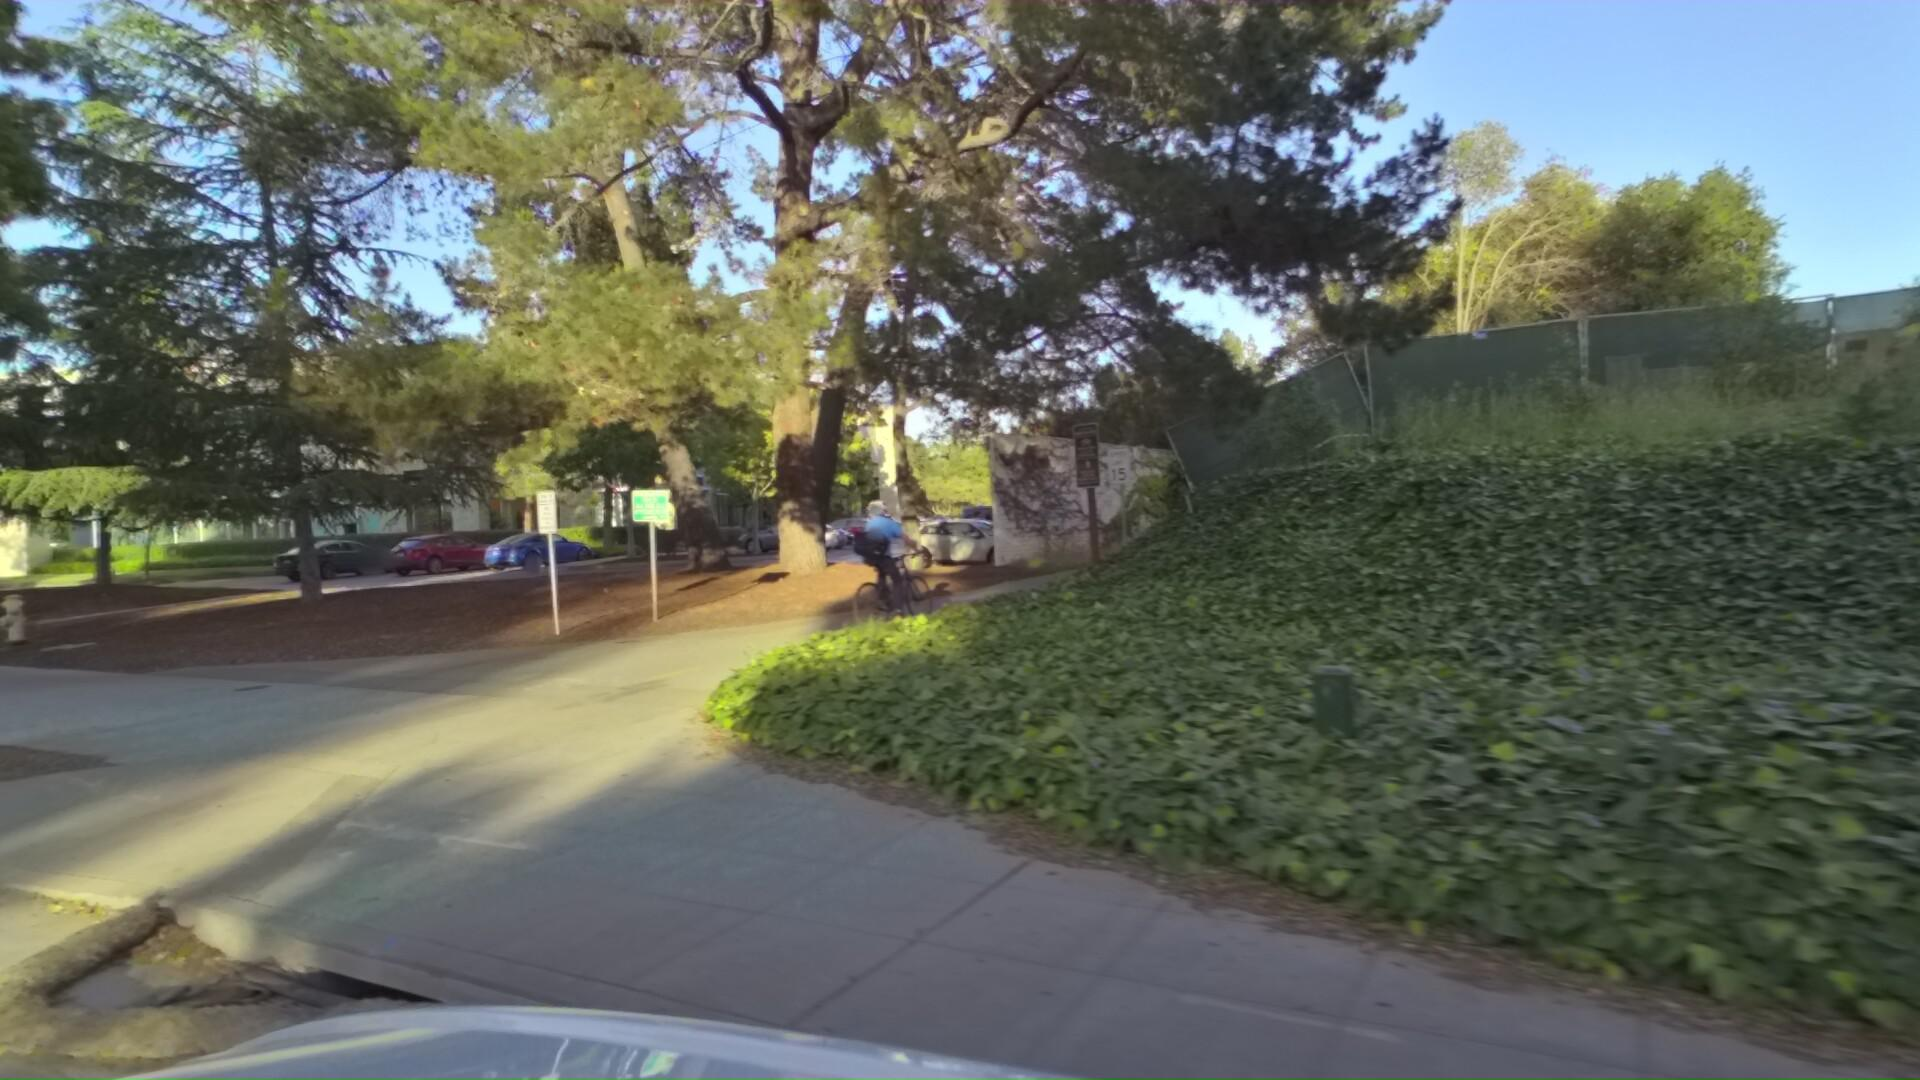bicycle: (839, 481, 1005, 636)
